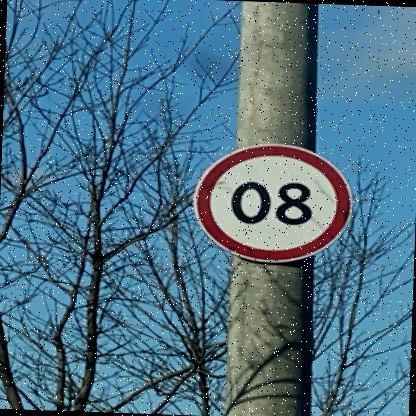speedlimit: (195, 140, 359, 264)
